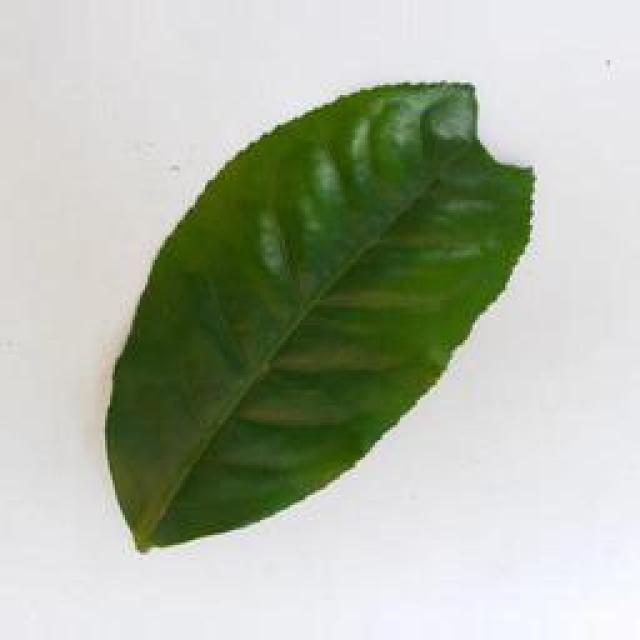Healthy: (101, 74, 539, 558)
